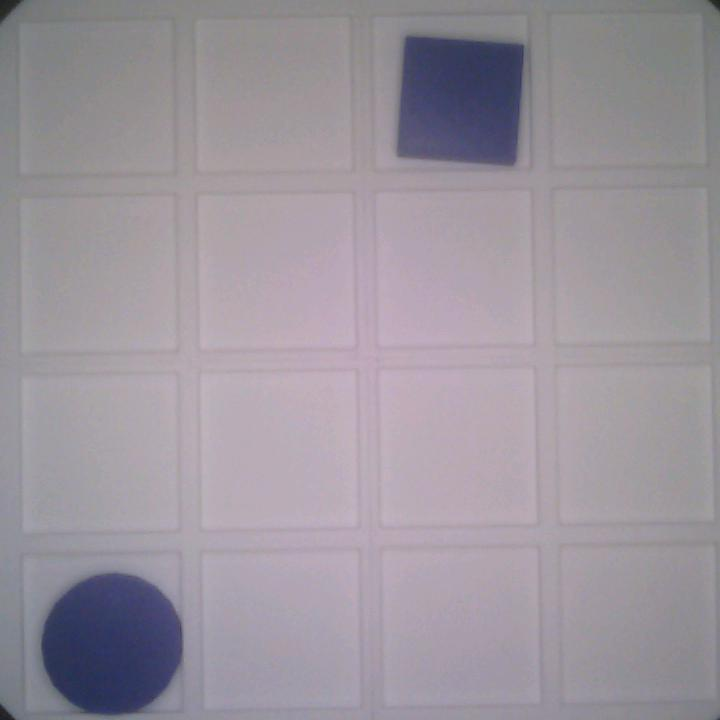Blue circle: (45, 565, 184, 713)
Blue square: (388, 27, 528, 174)
